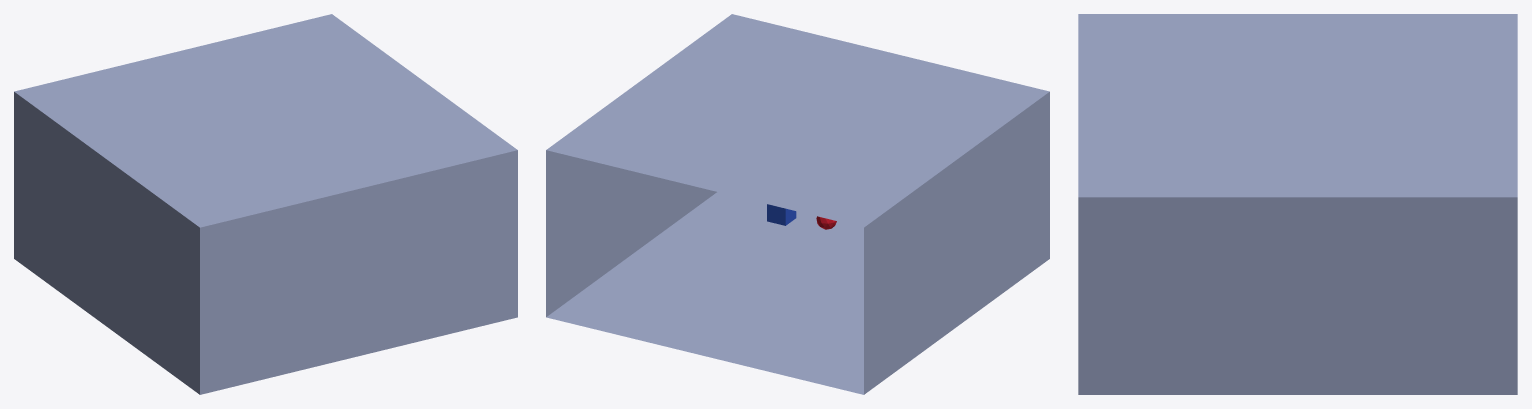
Rendered from simple.obj.
The picture shows the model from 3 angles, left to right: view 1: azimuth 30°, elevation 25°; view 2: azimuth 150°, elevation 25°; view 3: azimuth 270°, elevation 25°; orthographic projection. The views are drawn at different scales.
Parts seen in each view (by area): view 1: Cube; view 2: Cube, CubeMini_Cube.001; view 3: Cube.
Part boxes in pixels (x1=…): Cube: x1=14, y1=14, x2=517, y2=394; Cube: x1=546, y1=14, x2=1049, y2=394; CubeMini_Cube.001: x1=767, y1=204, x2=796, y2=225; Cube: x1=1078, y1=14, x2=1517, y2=394.
Size of the model in its own units: 34.22 by 17.21 by 34.68.
